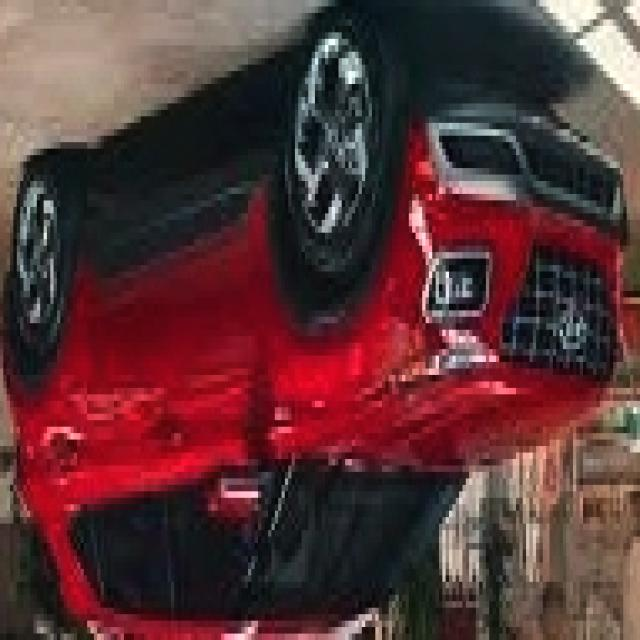red: (0, 77, 640, 636)
